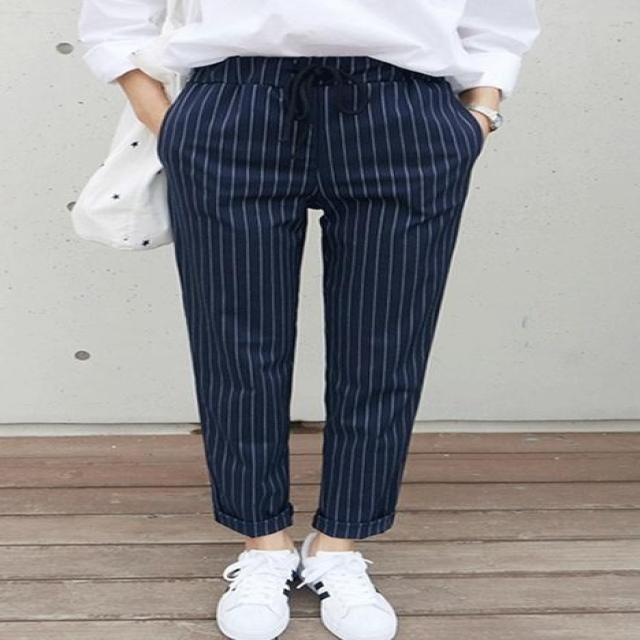trousers: (170, 58, 462, 527)
